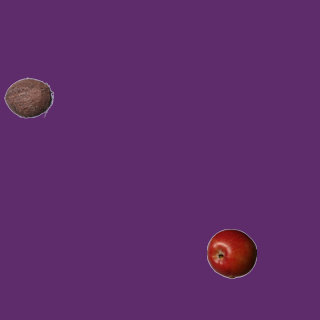Apple Braeburn: (206, 228, 256, 278)
Cocos: (3, 72, 53, 122)
